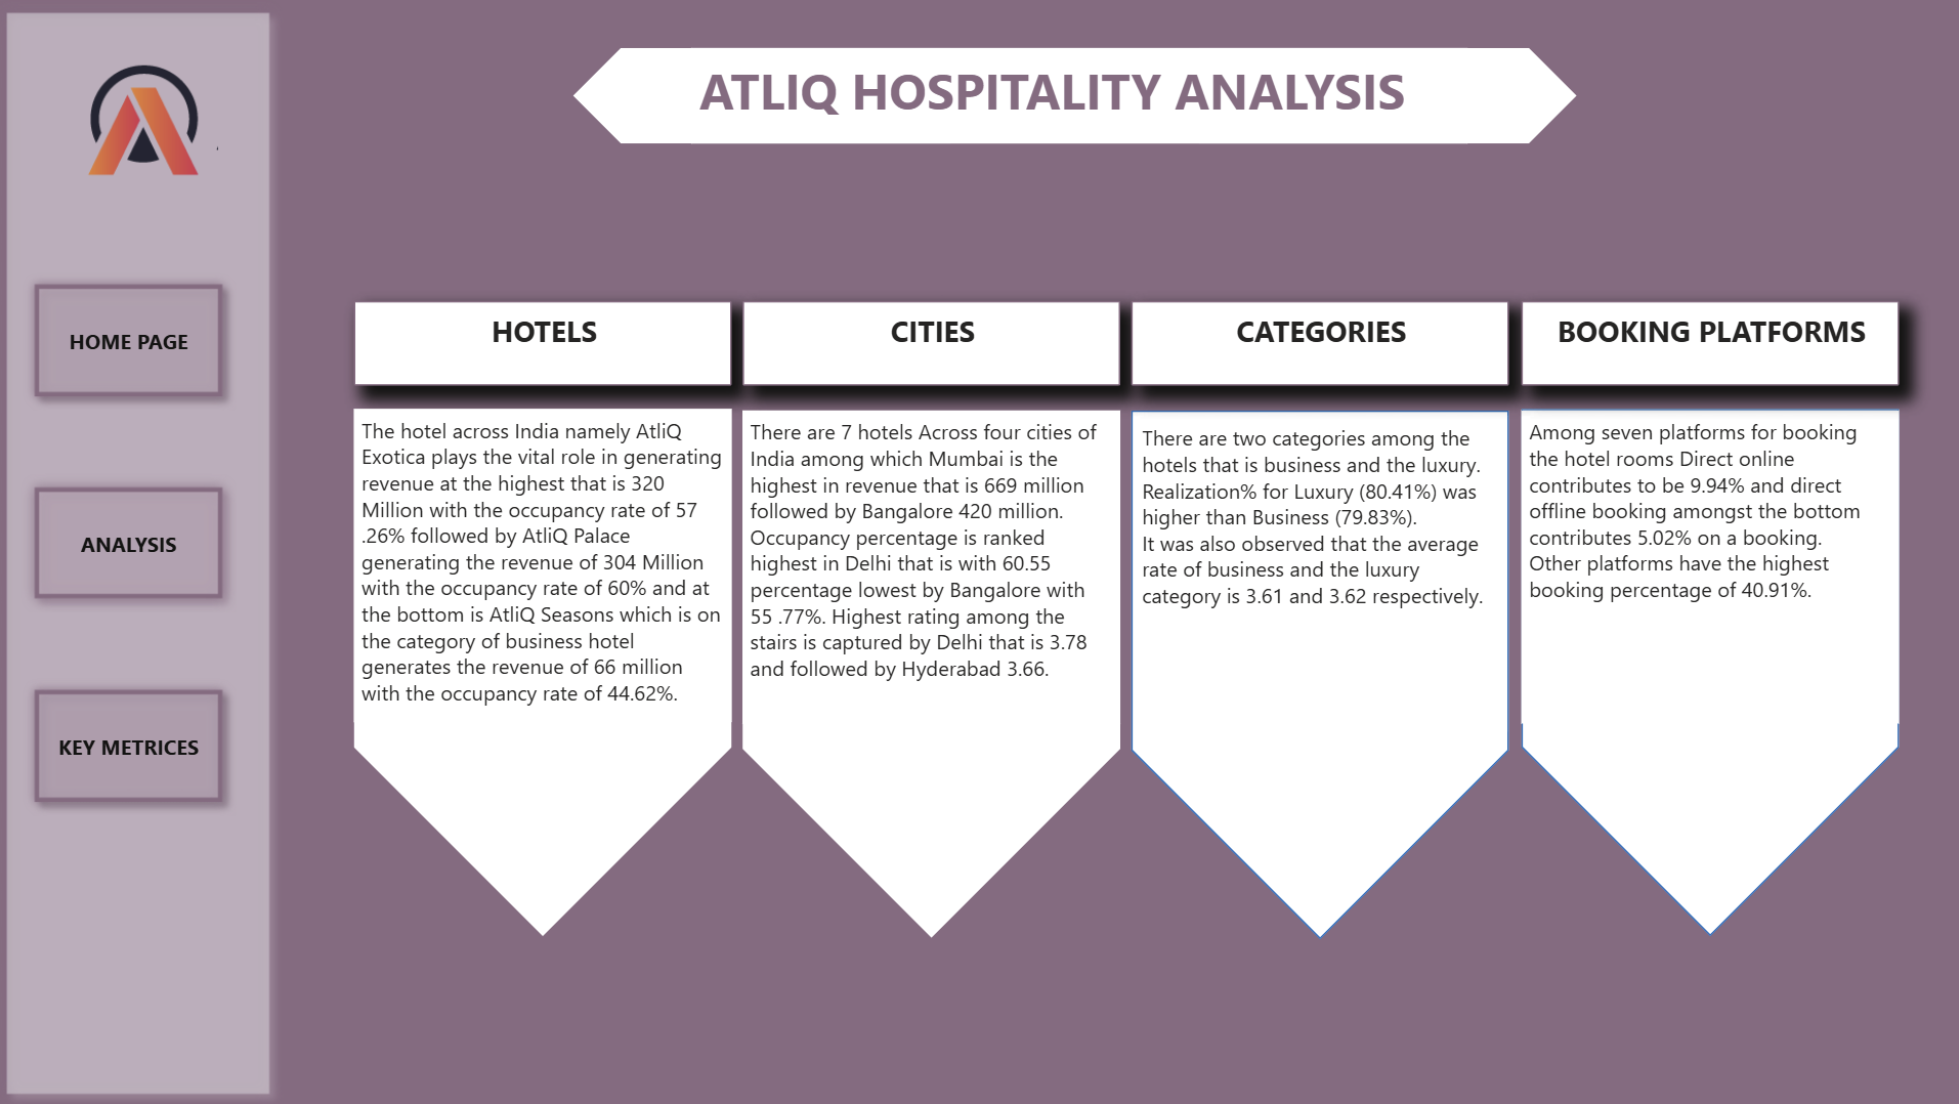

The dashboard page shown, as its layout file describes it:
{"tool":"powerbi","page":{"name":"HOME PAGE","canvas":[1280,720],"ordinal":0},"visuals":[{"type":"shape","box":[0,1.2,188.1,718.8],"z":0},{"type":"shape","box":[782.7,32.6,244.8,61.5],"z":0,"group":"g5"},{"type":"shape","box":[991.2,266.5,244.7,342],"z":0,"group":"g2"},{"type":"shape","box":[233.8,267.2,244.7,342],"z":0,"group":"g3"},{"type":"shape","box":[485.9,267.9,244.7,342],"z":0,"group":"g4"},{"type":"shape","box":[738,268.1,244.8,342.5],"z":0,"group":"g1"},{"type":"image","box":[36.2,22.9,114.6,114.6],"z":1000},{"type":"shape","box":[376.3,32.6,244.8,61.5],"z":1000,"group":"g5"},{"type":"textbox","box":[233.8,267.3,245,203.2],"z":1000,"group":"g3"},{"type":"textbox","box":[991.2,267.3,245,203.2],"z":1000,"group":"g2"},{"type":"textbox","box":[485.9,268,245,203.2],"z":1000,"group":"g4"},{"type":"textbox","box":[740.2,272.1,241.4,204.2],"z":1000,"group":"g1"},{"type":"textbox","box":[453.5,32.6,502.9,61.5],"z":2000,"group":"g5"},{"type":"group","id":"g1","title":"Group 3","box":[738,268.1,244.8,342.5],"z":2000},{"type":"group","id":"g2","title":"Group 4","box":[991.2,266.5,244.8,342.5],"z":3000},{"type":"textbox","box":[234,196.8,244.8,55.5],"z":4000},{"type":"textbox","box":[486.1,196.8,244.8,55.5],"z":5000},{"type":"textbox","box":[738.1,196.8,244.8,55.5],"z":6000},{"type":"textbox","box":[991.4,196.8,244.8,55.5],"z":7000},{"type":"group","id":"g3","title":"Group 1","box":[233.8,267.2,245,342],"z":8000},{"type":"group","id":"g4","title":"Group 1","box":[485.9,267.9,244.8,342.5],"z":9000},{"type":"group","id":"g5","title":"Group 2","box":[376.3,32.6,651.3,61.5],"z":10000},{"type":"actionButton","box":[18.1,177.3,139.9,90.5],"z":11000},{"type":"actionButton","box":[18.1,440.2,140,90.5],"z":12000},{"type":"actionButton","box":[18.1,308.7,139.9,90.5],"z":13000}]}

Visuals, with their boxes in screenshot pixels (x1, y1, x2, y2), scaled from the page's 1280x720 canvas onto the 1959x1104 screenshot:
shape: detection(0, 2, 288, 1103)
shape: detection(1198, 50, 1573, 144)
shape: detection(1517, 409, 1892, 933)
shape: detection(358, 410, 732, 934)
shape: detection(744, 411, 1118, 935)
shape: detection(1129, 411, 1504, 936)
image: detection(55, 35, 231, 211)
shape: detection(576, 50, 951, 144)
textbox: detection(358, 410, 733, 721)
textbox: detection(1517, 410, 1892, 721)
textbox: detection(744, 411, 1119, 723)
textbox: detection(1133, 417, 1502, 730)
textbox: detection(694, 50, 1464, 144)
"Group 3" group: detection(1129, 411, 1504, 936)
"Group 4" group: detection(1517, 409, 1892, 934)
textbox: detection(358, 302, 733, 387)
textbox: detection(744, 302, 1119, 387)
textbox: detection(1130, 302, 1504, 387)
textbox: detection(1517, 302, 1892, 387)
"Group 1" group: detection(358, 410, 733, 934)
"Group 1" group: detection(744, 411, 1118, 936)
"Group 2" group: detection(576, 50, 1573, 144)
actionButton: detection(28, 272, 242, 411)
actionButton: detection(28, 675, 242, 814)
actionButton: detection(28, 473, 242, 612)
